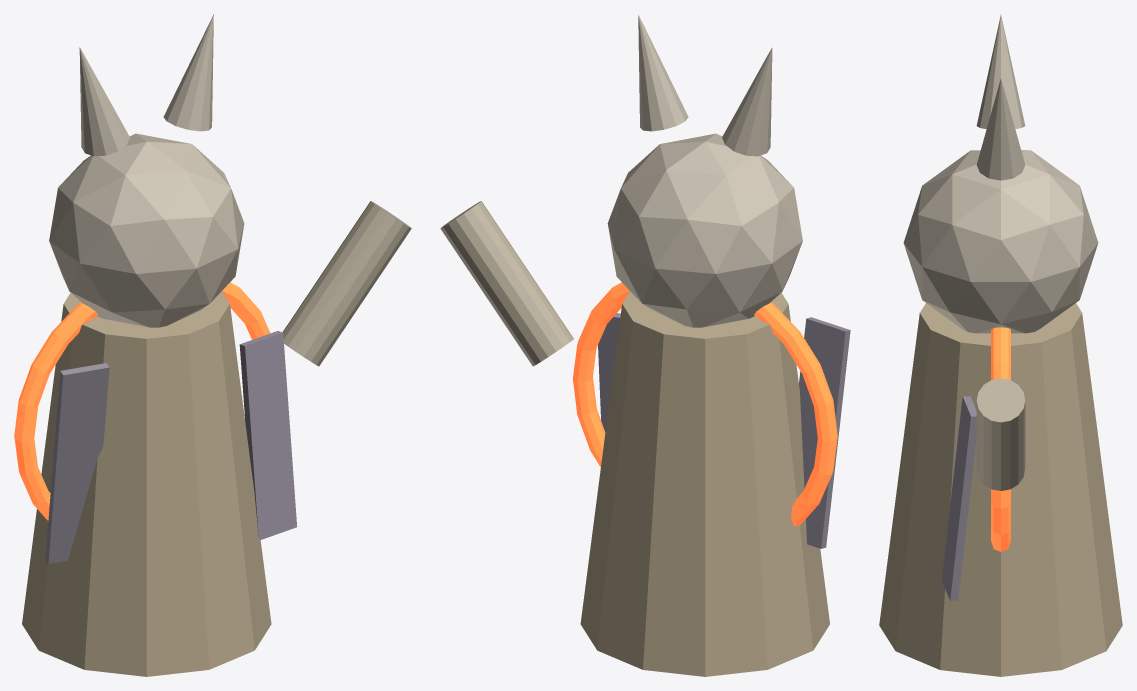
Rendered from pack-herald.glb.
The picture shows the model from 3 angles, left to right: view 1: azimuth 30°, elevation 25°; view 2: azimuth 150°, elevation 25°; view 3: azimuth 270°, elevation 25°; orthographic projection. The views are drawn at different scales.
Visible parts, largest first — view 1: herald-torso, herald-head, herald-cloak-tatter-1, herald-horn-prop, herald-cloak-tatter-0, herald-pack-mark, herald-ear-1, herald-ear-0; view 2: herald-torso, herald-head, herald-pack-mark, herald-horn-prop, herald-cloak-tatter-0, herald-ear-1, herald-ear-0, herald-cloak-tatter-1; view 3: herald-torso, herald-head, herald-horn-prop, herald-cloak-tatter-1, herald-ear-1, herald-ear-0, herald-pack-mark.
Part boxes in pixels (left/top/right/bottom): herald-torso: left=22, top=291, right=271, bottom=676; herald-head: left=49, top=133, right=244, bottom=327; herald-cloak-tatter-1: left=239, top=331, right=296, bottom=540; herald-horn-prop: left=282, top=201, right=411, bottom=366; herald-cloak-tatter-0: left=45, top=363, right=109, bottom=563; herald-pack-mark: left=14, top=282, right=270, bottom=520; herald-ear-1: left=163, top=14, right=213, bottom=131; herald-ear-0: left=79, top=47, right=129, bottom=156; herald-torso: left=580, top=291, right=829, bottom=676; herald-head: left=607, top=133, right=802, bottom=327; herald-pack-mark: left=573, top=282, right=837, bottom=525; herald-horn-prop: left=440, top=201, right=573, bottom=366; herald-cloak-tatter-0: left=799, top=317, right=850, bottom=548; herald-ear-1: left=638, top=14, right=688, bottom=131; herald-ear-0: left=722, top=47, right=772, bottom=156; herald-cloak-tatter-1: left=598, top=313, right=620, bottom=431; herald-torso: left=879, top=303, right=1122, bottom=676; herald-head: left=903, top=150, right=1098, bottom=333; herald-horn-prop: left=976, top=378, right=1025, bottom=490; herald-cloak-tatter-1: left=941, top=396, right=976, bottom=601; herald-ear-1: left=976, top=79, right=1025, bottom=180; herald-ear-0: left=976, top=15, right=1025, bottom=128; herald-pack-mark: left=991, top=327, right=1010, bottom=551.
Size of the model in its own units: 1.09 by 1.58 by 0.6.
